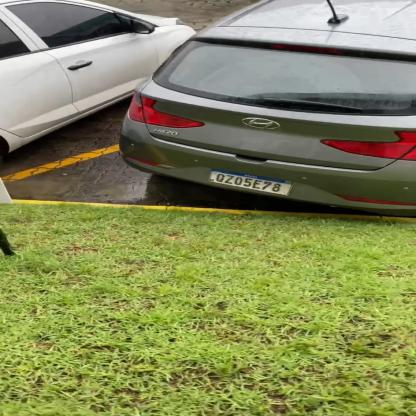Plate: (204, 165, 298, 200)
